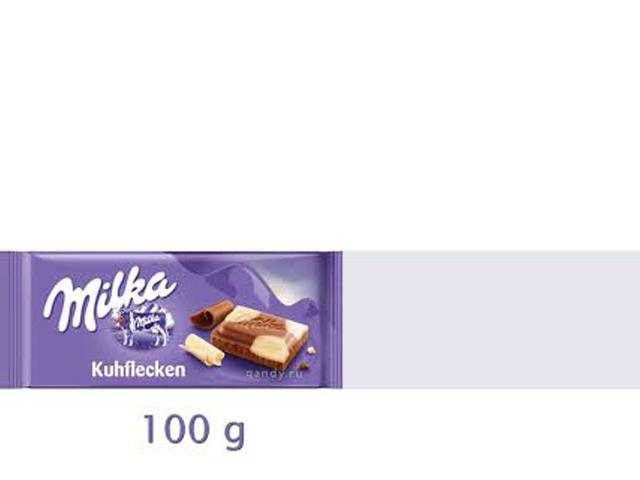chocolate: (10, 249, 343, 394)
